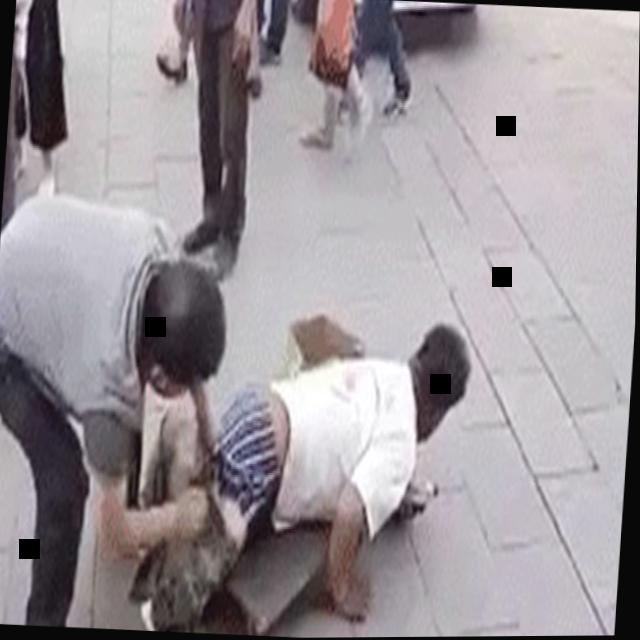Fall-Detected: (100, 272, 486, 639)
